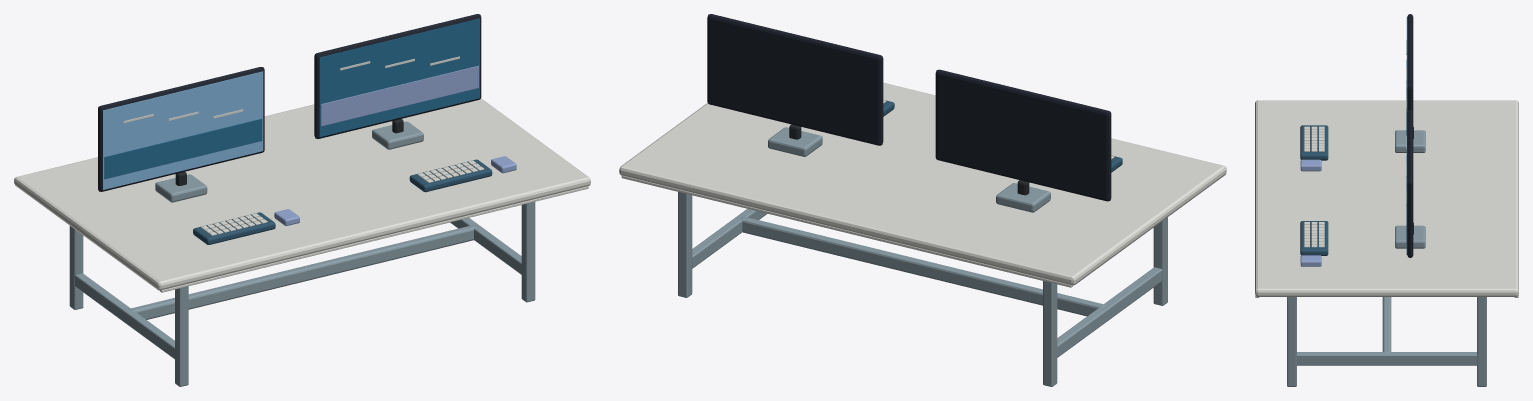
The model's file is suvel_photo.glb.
The picture shows the model from 3 angles, left to right: view 1: azimuth 30°, elevation 25°; view 2: azimuth 150°, elevation 25°; view 3: azimuth 270°, elevation 25°; orthographic projection. The views are drawn at different scales.
Visible parts, largest first — view 1: suvel_photo; view 2: suvel_photo; view 3: suvel_photo.
Part boxes in pixels (x1=…): suvel_photo: x1=14, y1=14, x2=590, y2=386; suvel_photo: x1=619, y1=14, x2=1226, y2=386; suvel_photo: x1=1255, y1=14, x2=1518, y2=386.
Bounding box in the file's own units: 3.22 × 1.67 × 1.88.
